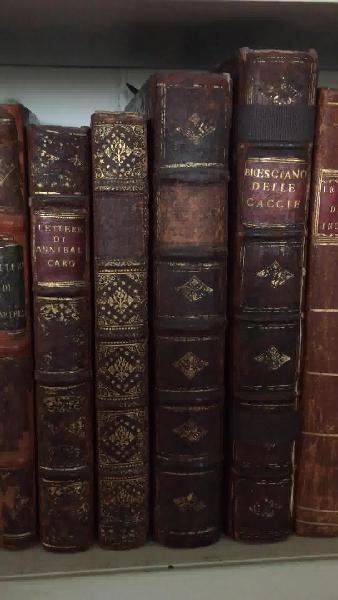Aa6-29: (22, 115, 99, 556)
Aa6-30: (91, 100, 157, 554)
Aa6-31: (141, 68, 227, 549)
Aa6-32: (221, 32, 317, 562)
